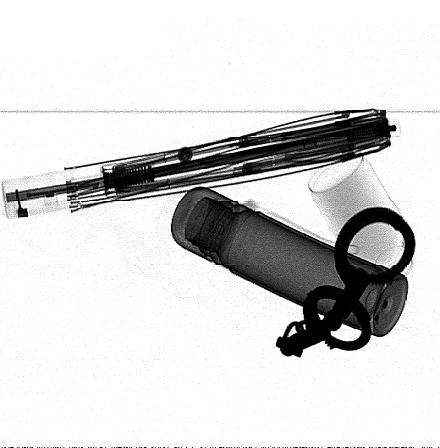HandCuffs: (276, 207, 416, 360)
